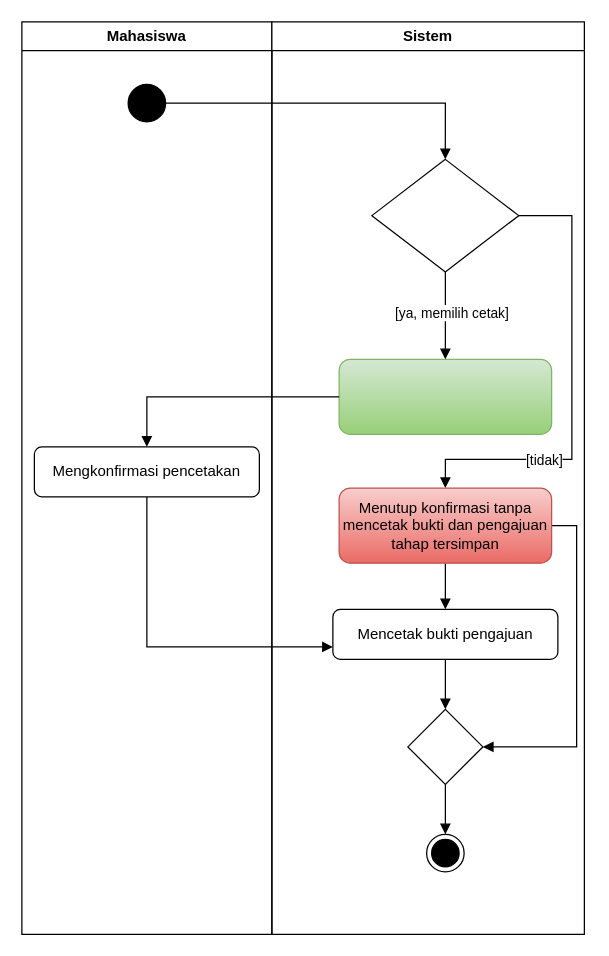
The diagram is 609 pixels wide and 956 high, and some of its shapes have lost their labels. Here are the shapes that lost their labels. From the top down, the centre of each, then its label:
(x=445, y=215): Mahasiswa memilih cetak bukti?
(x=445, y=396): Menampilkan bukti pengajuan dengan nomor pengajuan dan status menunggu keputusan
